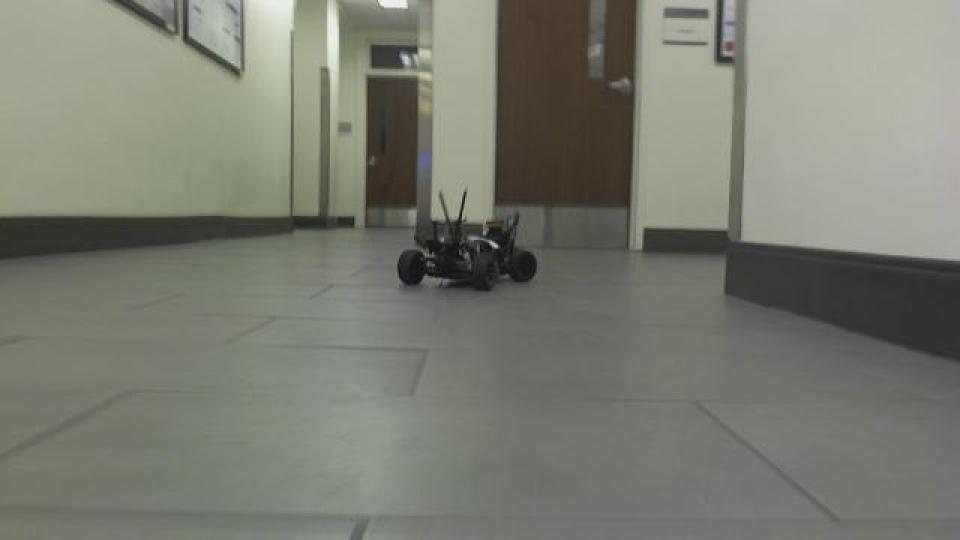car: (393, 184, 540, 294)
